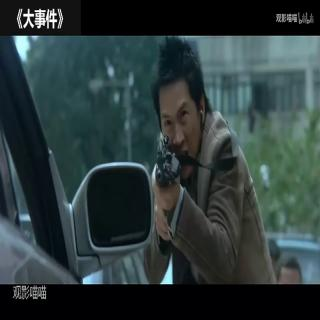gun: (152, 131, 186, 258)
